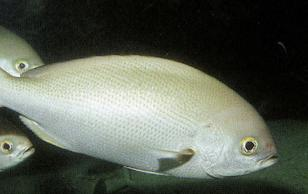Lutjanidae -Snappers-: (0, 14, 284, 182)
